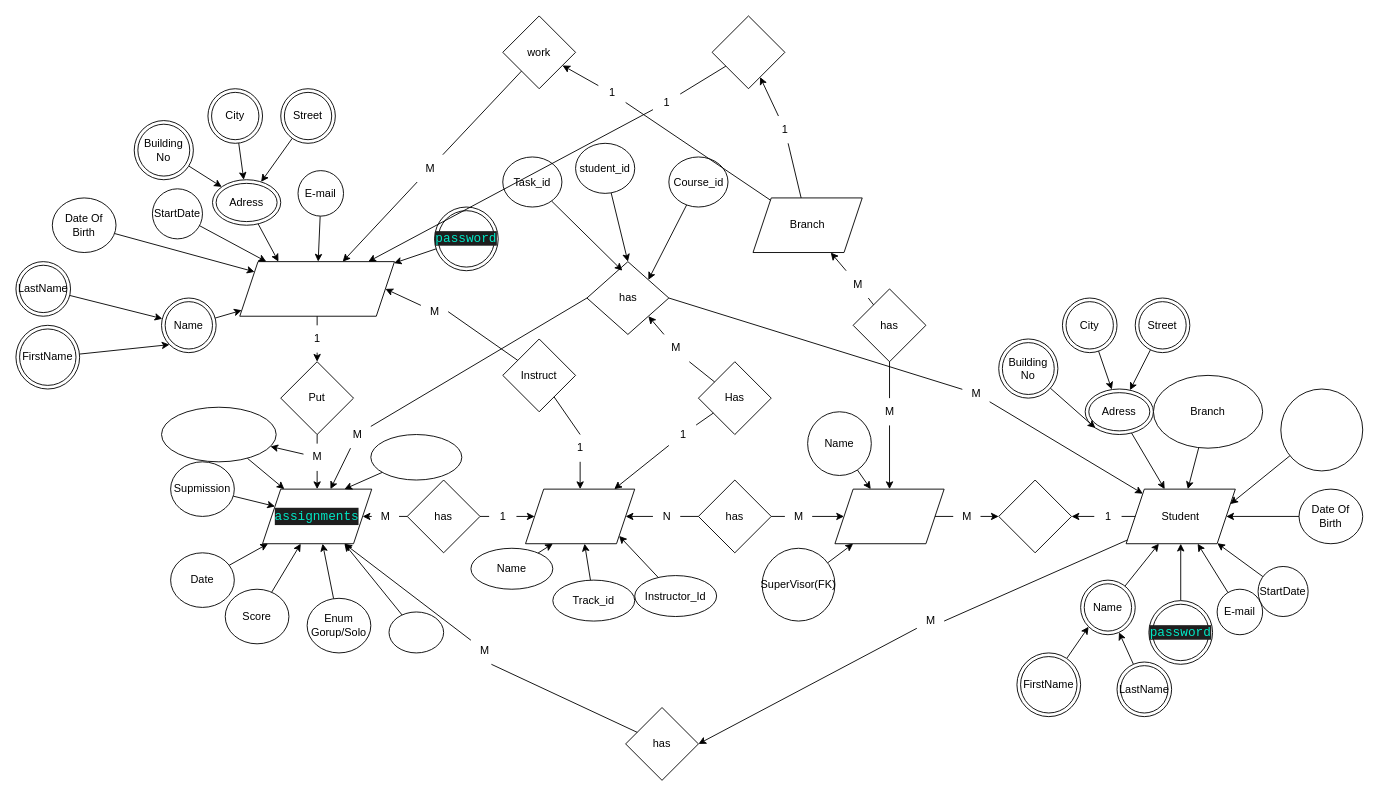
This 1379x796 diagram has some shape labels left out. Here are the shapes that lost their labels. From the top down, the centre of each, then its label:
point (748, 52): manage
point (316, 288): Instructor / superVisor
point (218, 434): assignment_type
point (1321, 429): Track_ID(FK)
point (416, 457): description
point (580, 516): Course
point (889, 516): Track
point (1035, 516): In
point (416, 632): title
